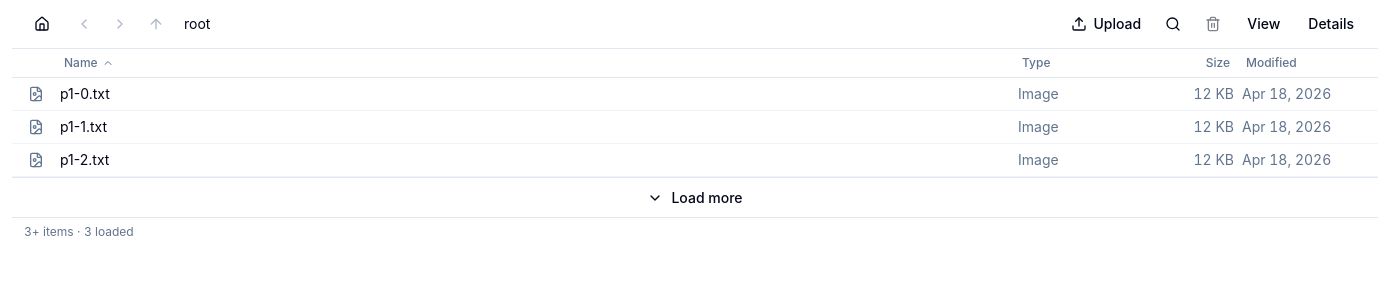
it: LoadMoreRegion behavior through the composite (spec scenarios) › Load-more click appends entries, advances the cursor, and updates the status row (spec lines 18-21)
Expected: the message reads "3+ items · 3 loaded", [12,217,1378,246]
What coordinates should you click on to do the following:
click the button "Load more"
I would click on:
 (695, 197)
Its box is [12,177,1378,217].
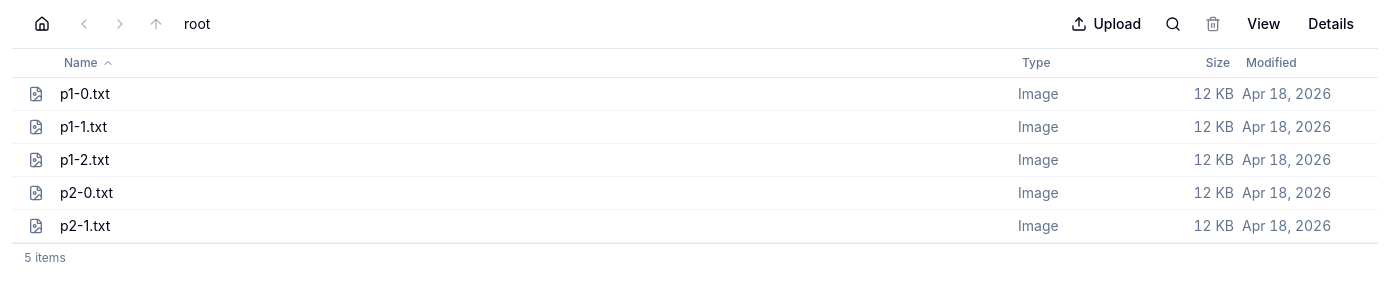
Expected: the button "Load more" is gone
Expected: the message reads "5 items", [12,243,1378,272]
